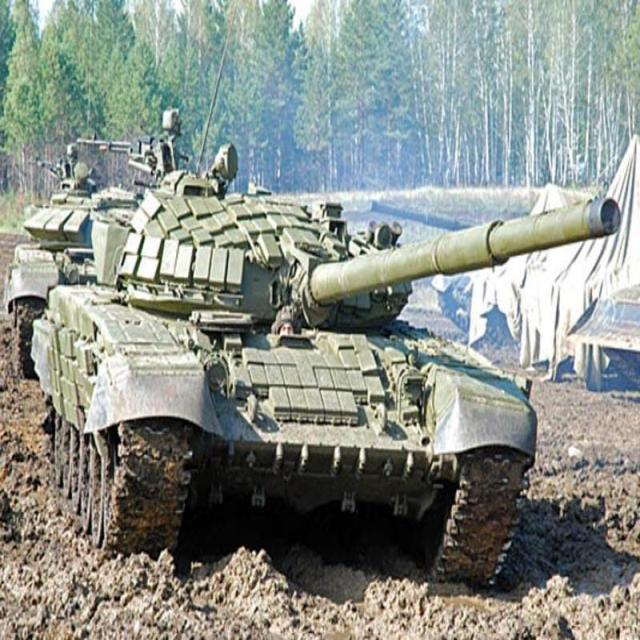Tanks: (97, 173, 530, 566)
